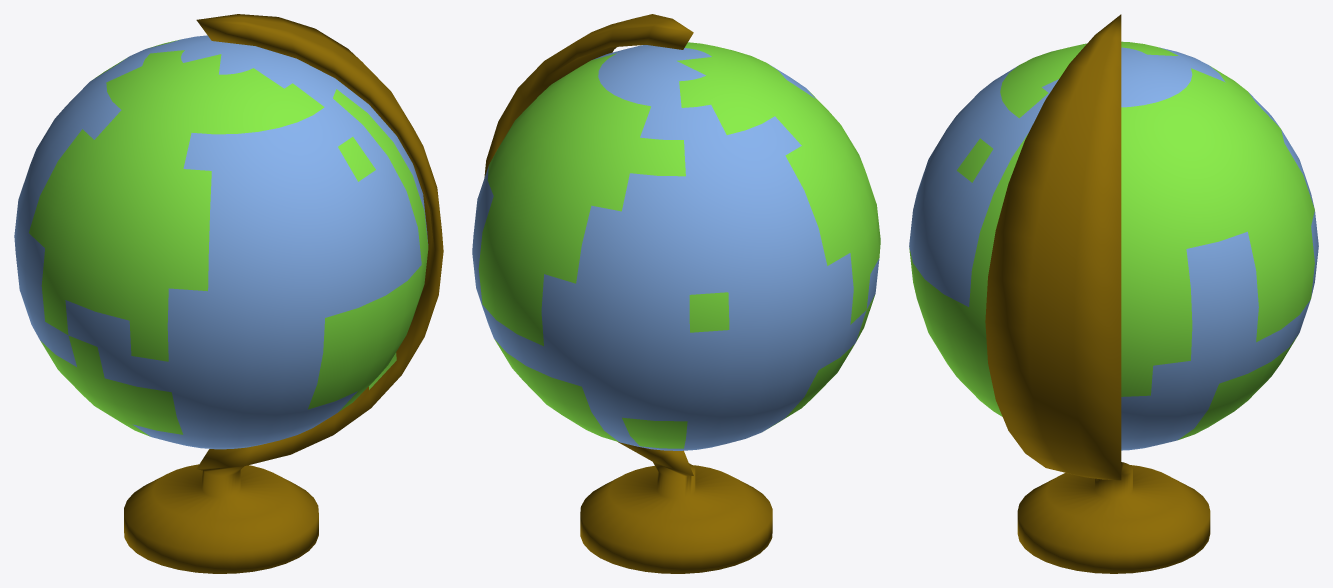
File: globe.fbx
The picture shows the model from 3 angles, left to right: view 1: azimuth 30°, elevation 25°; view 2: azimuth 150°, elevation 25°; view 3: azimuth 270°, elevation 25°; orthographic projection.
Parts seen in each view (by area): view 1: Sphere; view 2: Sphere; view 3: Sphere.
Boxes of the visible parts, <box> form: Sphere: <box>14,14,443,573</box>; Sphere: <box>472,14,880,573</box>; Sphere: <box>909,14,1318,573</box>.
Size of the model in its own units: 208 by 274 by 200.
